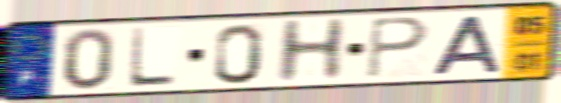0: (61, 26, 119, 93), (212, 21, 267, 86)
A: (428, 13, 505, 77)
H: (273, 16, 350, 86)
L: (125, 26, 179, 89)
P: (365, 15, 432, 81)
